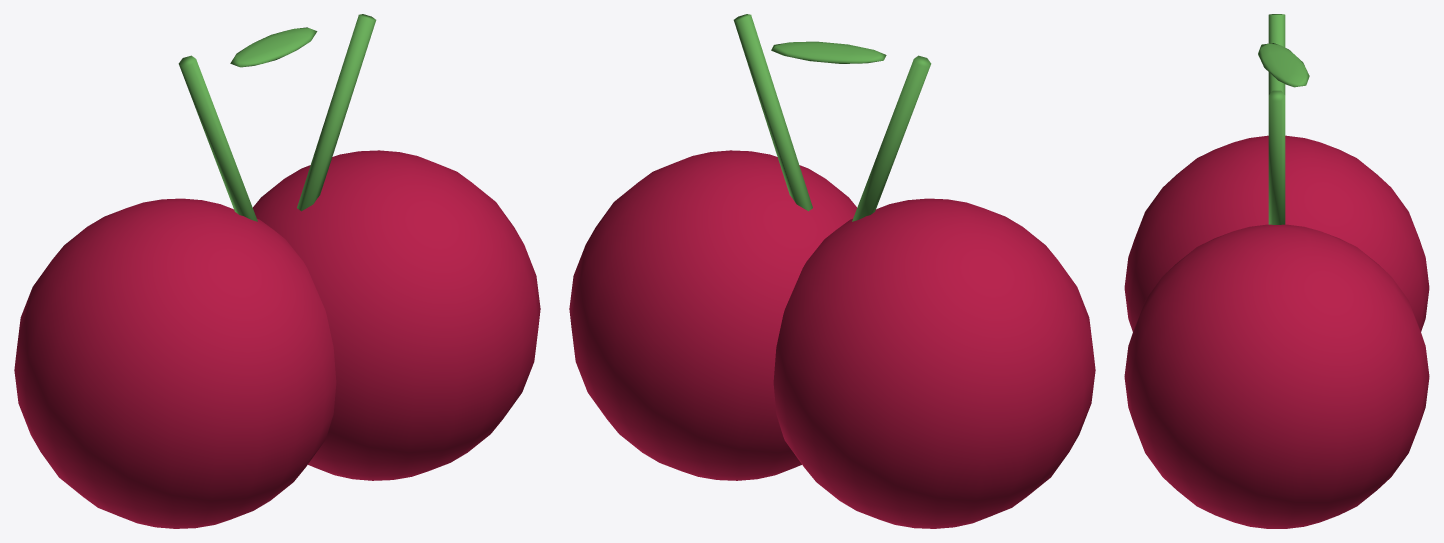
Rendered from cherry.glb.
3 views of the same model, side by side, from view 1: azimuth 30°, elevation 25°; view 2: azimuth 150°, elevation 25°; view 3: azimuth 270°, elevation 25° (orthographic). The views are drawn at different scales.
Parts seen in each view (by area): view 1: cherry; view 2: cherry; view 3: cherry.
Part boxes in pixels (x1,y1,x2,y2): cherry: (14,14,540,528); cherry: (569,14,1095,528); cherry: (1124,14,1429,528).
Bounding box in the file's own units: 1 × 0.9 × 0.5957.
